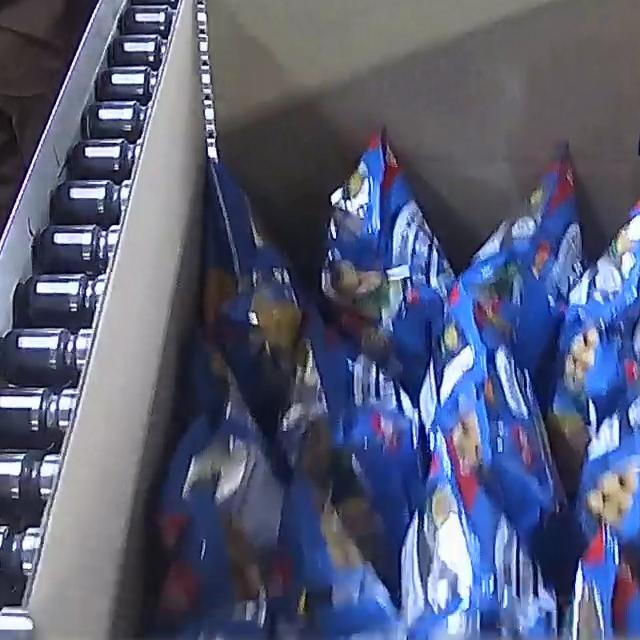paprika: (145, 122, 640, 640)
